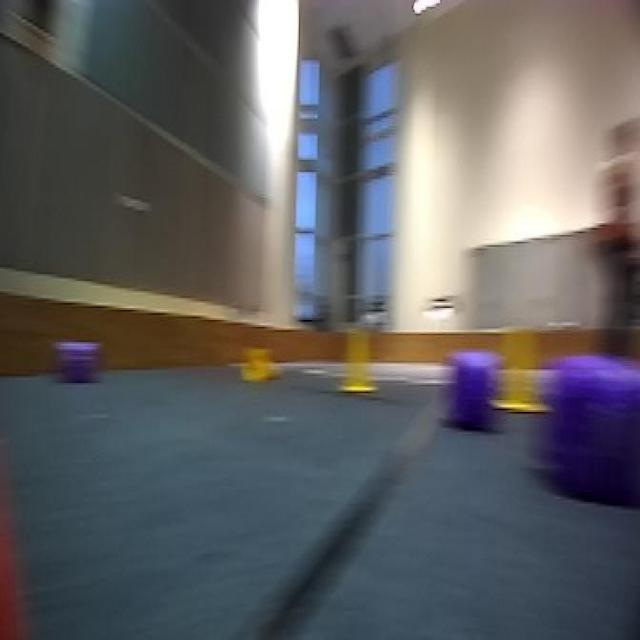frc_cone: (489, 322, 555, 415), (338, 322, 379, 396), (239, 338, 287, 392)
frc_cube: (545, 355, 640, 510), (451, 364, 497, 426), (64, 337, 95, 390)
